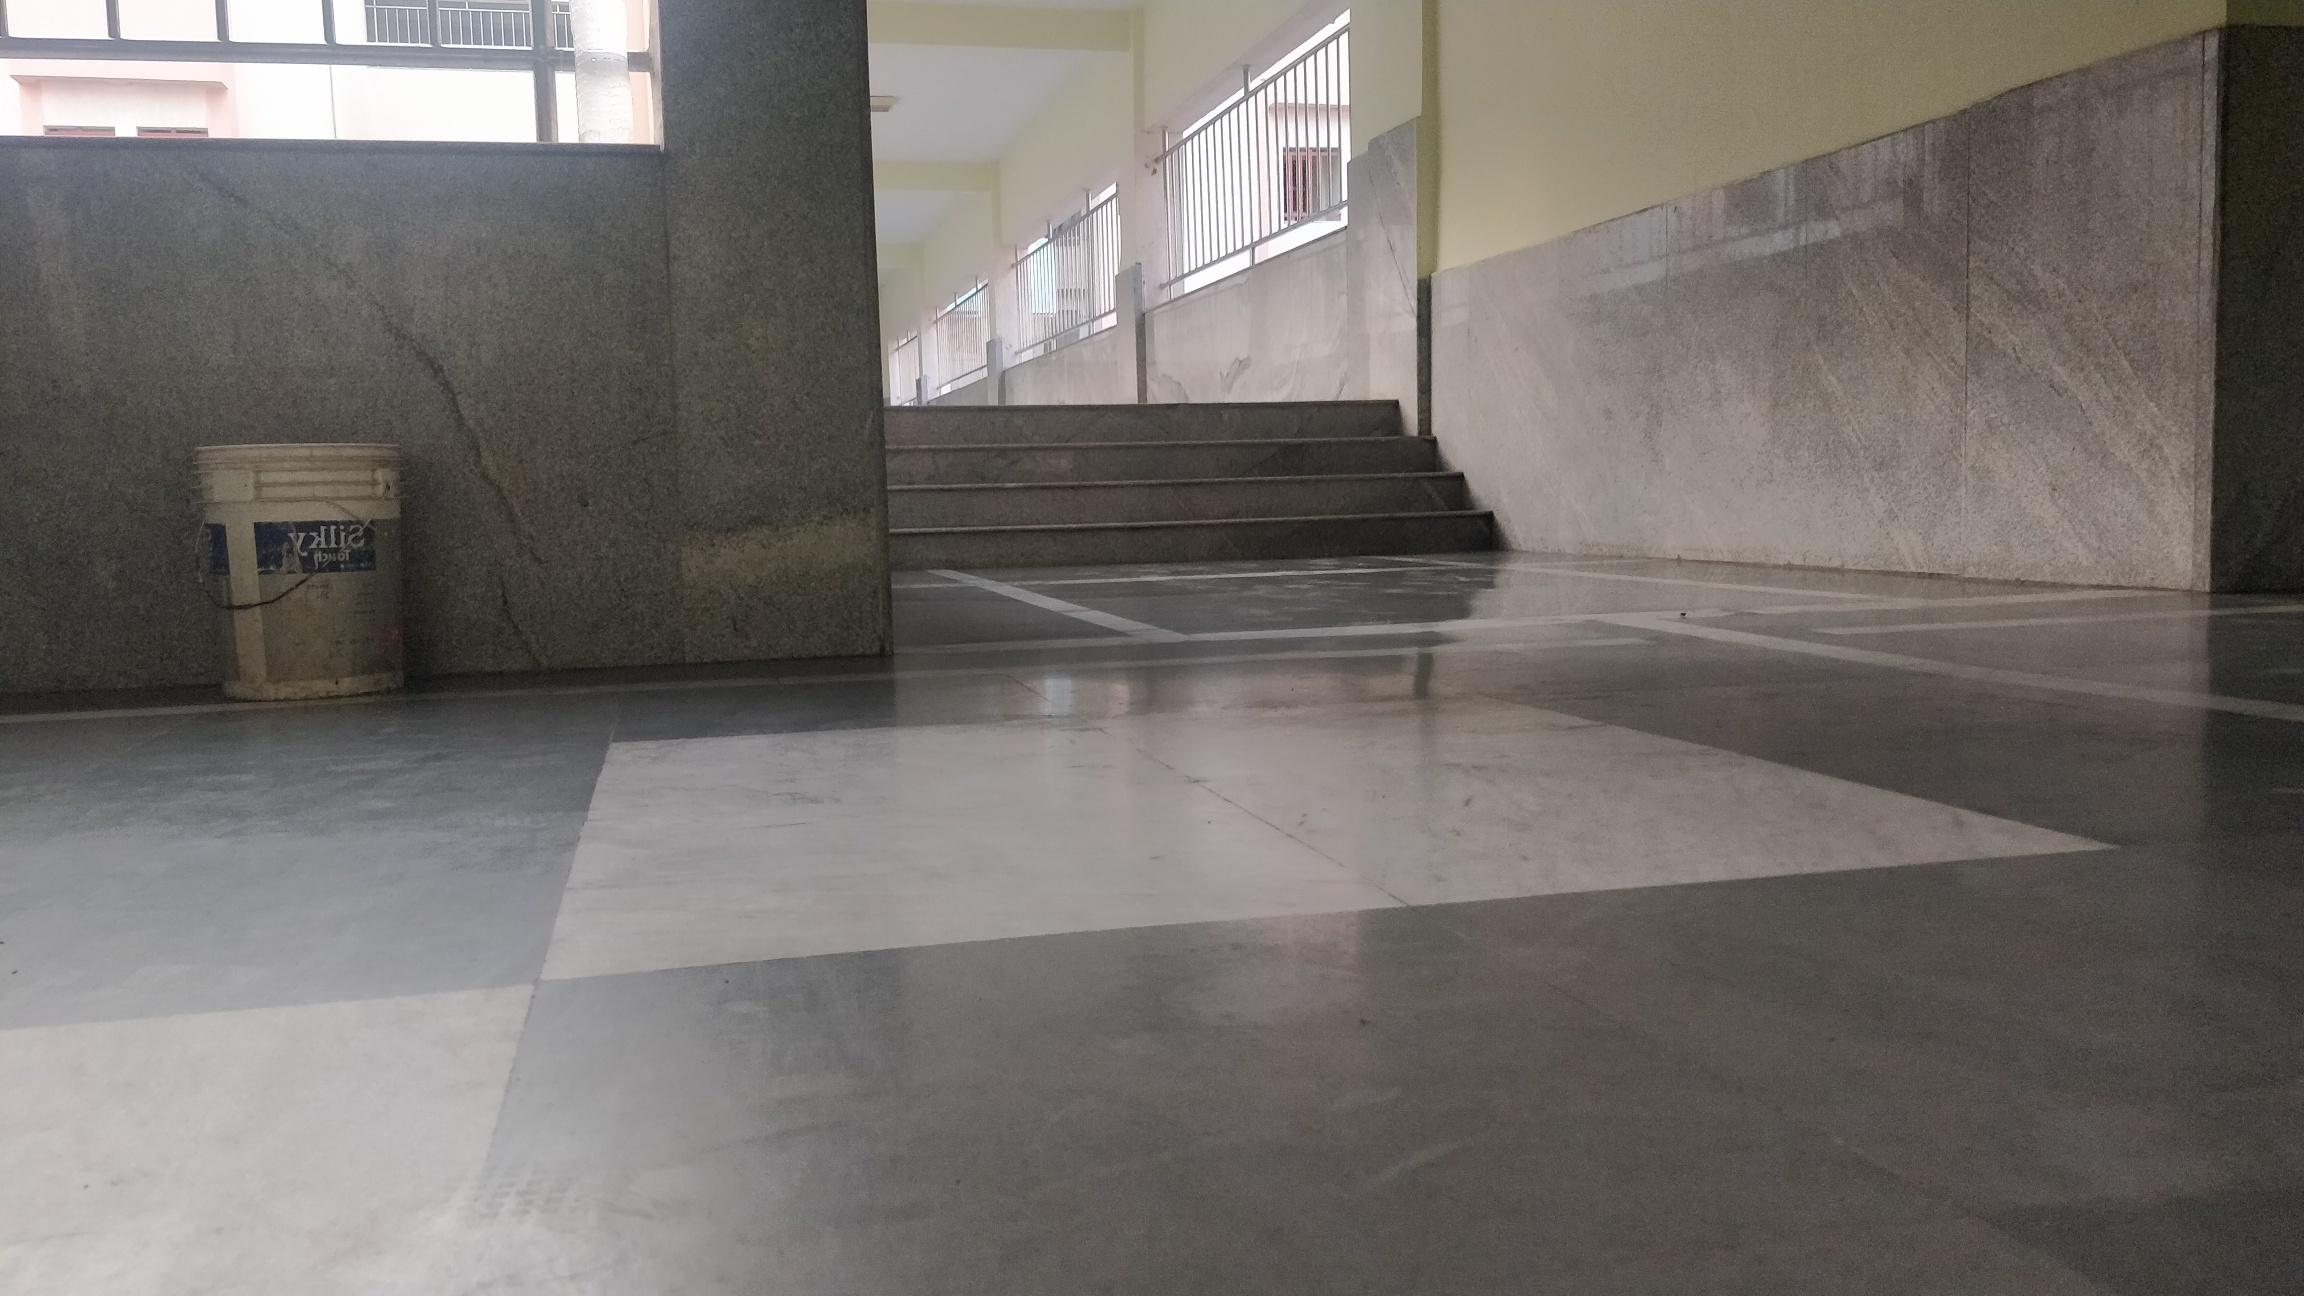stairs_up: (889, 399, 1503, 562)
